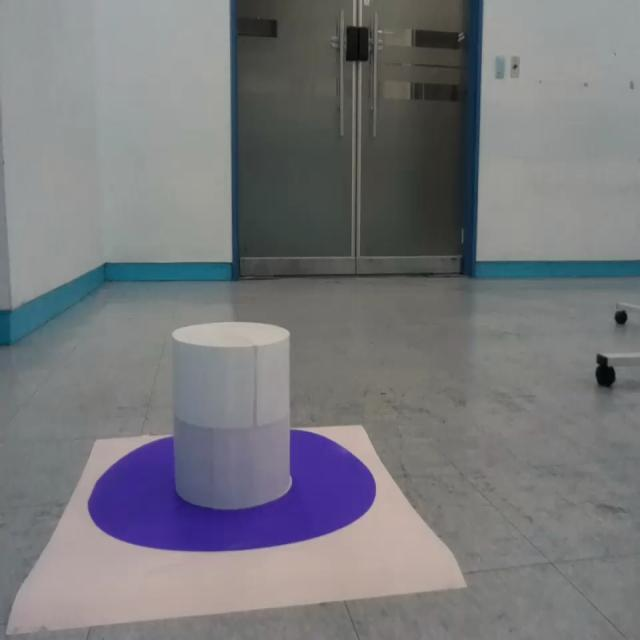cylinder: (170, 321, 292, 509)
